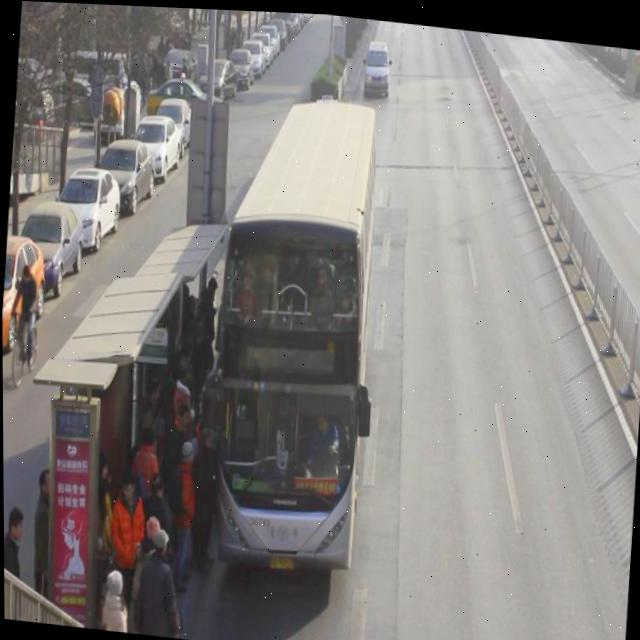truck: (363, 35, 391, 99)
van: (208, 86, 383, 562)
